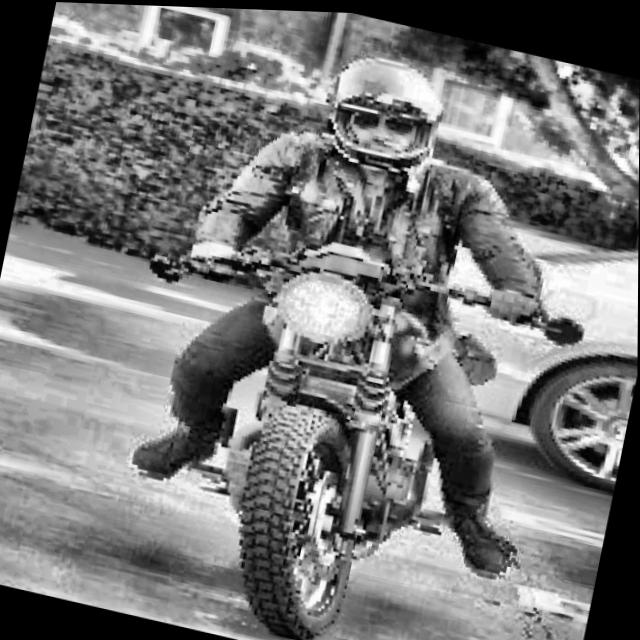motorcycle: (42, 184, 616, 640)
